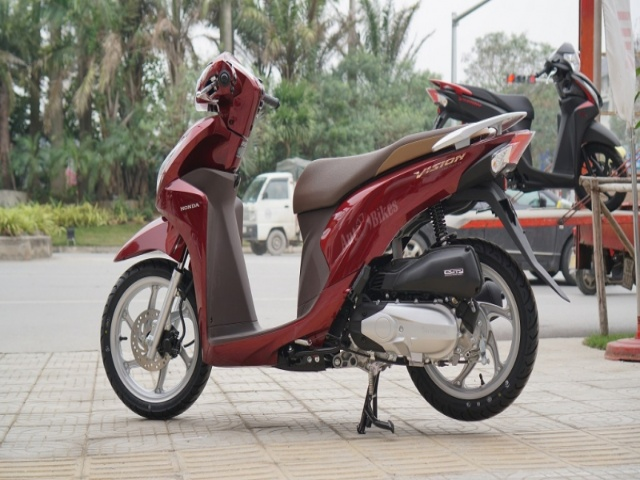Xe_may: (102, 49, 553, 433)
